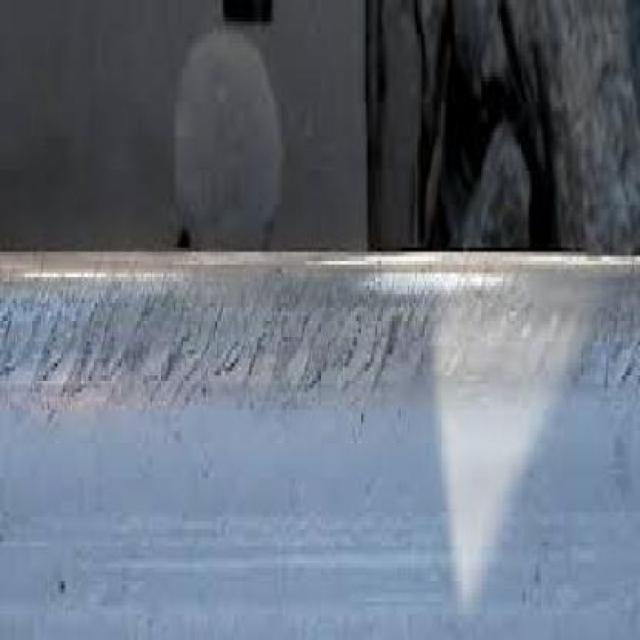defective: (0, 246, 638, 638)
